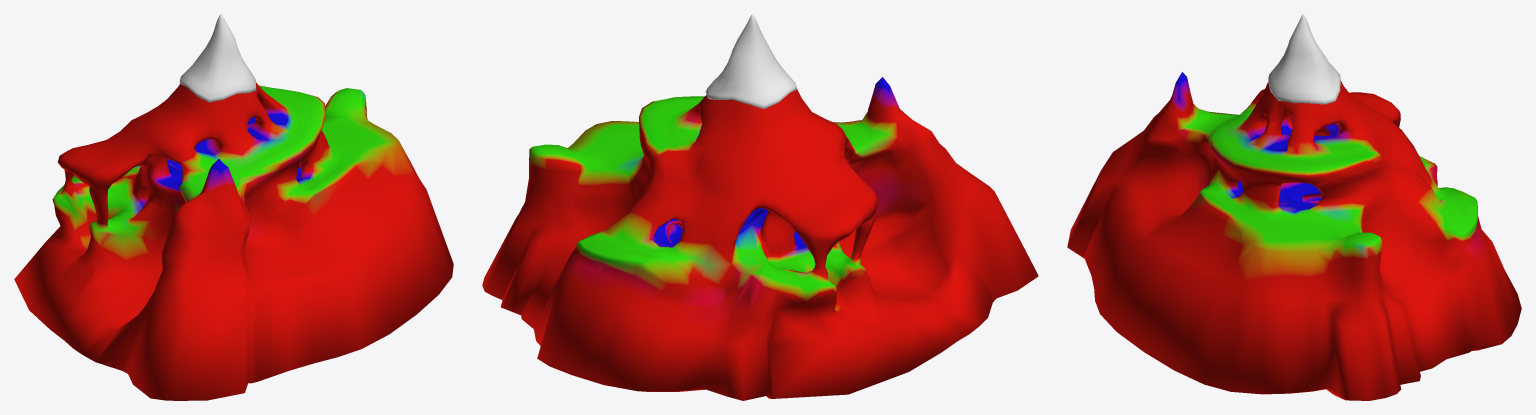
The model's file is Summit Diorama.fbx.
3 views of the same model, side by side, from view 1: azimuth 30°, elevation 25°; view 2: azimuth 150°, elevation 25°; view 3: azimuth 270°, elevation 25° (orthographic). The views are drawn at different scales.
Visible parts, largest first — view 1: Mountain (Final).001, Peak; view 2: Mountain (Final).001, Peak; view 3: Mountain (Final).001, Peak.
Boxes of the visible parts, x1,y1,x2,y2 form: Mountain (Final).001: (14,82,453,400); Peak: (179,14,256,102); Mountain (Final).001: (482,77,1038,400); Peak: (705,14,797,109); Mountain (Final).001: (1067,72,1521,400); Peak: (1268,14,1340,104).
Size of the model in its own units: 23166 by 16084 by 22811.
